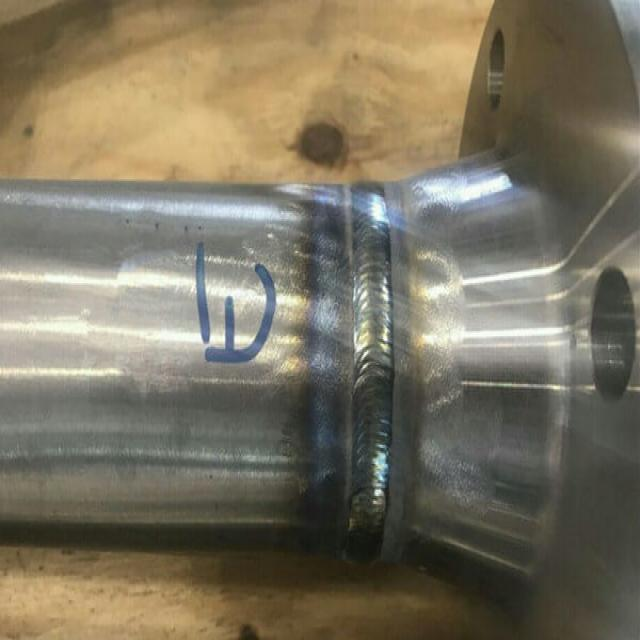Good Weld: (348, 180, 392, 550)
